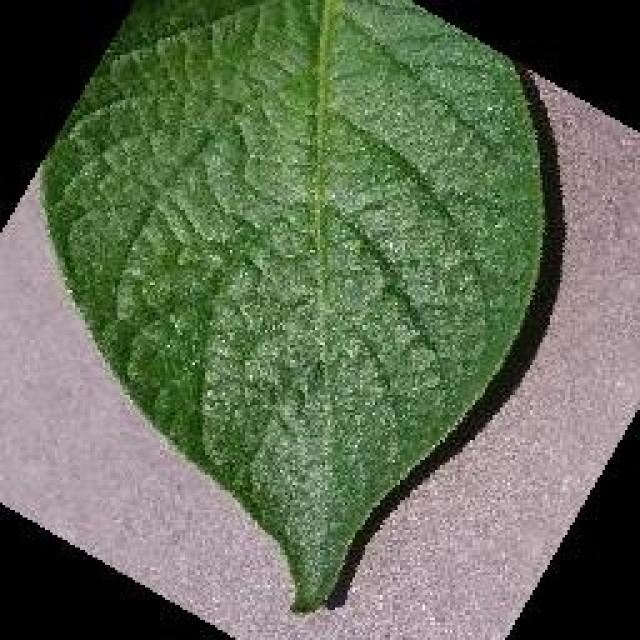Potato___healthy: (40, 0, 550, 621)
